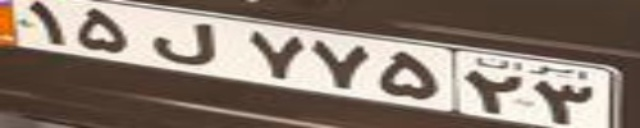1: (25, 1, 62, 45)
2: (461, 69, 523, 113)
3: (531, 79, 593, 125)
5: (375, 50, 438, 99), (75, 5, 129, 52)
7: (242, 30, 306, 78), (309, 40, 367, 89)
lam: (151, 21, 216, 65)
